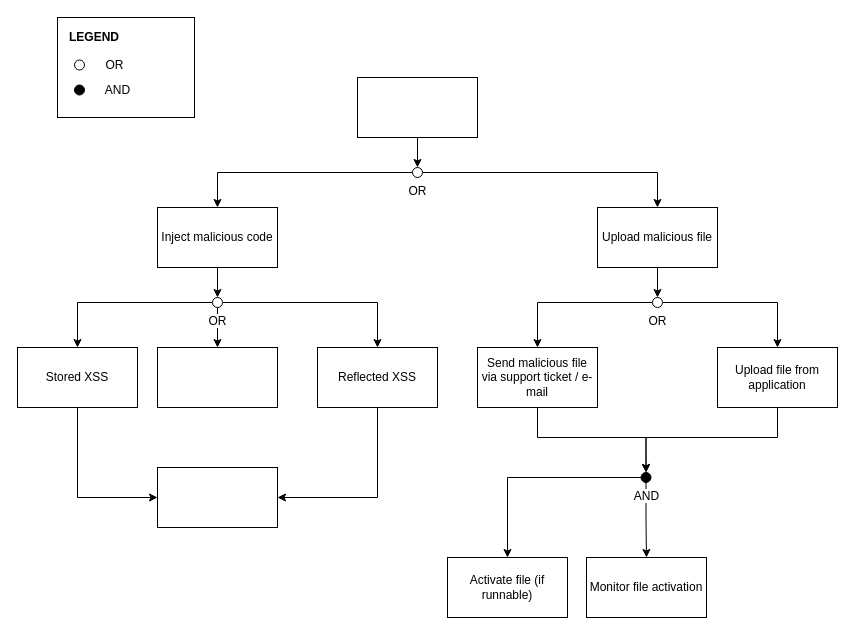
Some shapes in this 855 by 635 pixel diagram are drawn without their labels. Each missing label, with the centre of its shape:
"Forward malicious content link" belongs at [217,497].
"Malicious Code Insertion" belongs at [417,107].
"SQL Injection" belongs at [217,377].
